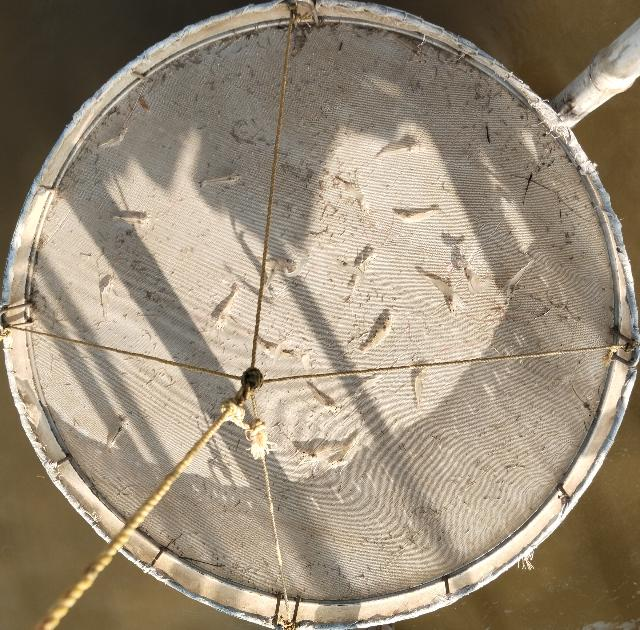shrimp: (418, 275, 462, 317), (506, 257, 537, 305), (97, 112, 132, 148), (335, 179, 369, 216), (362, 315, 393, 355), (327, 435, 361, 470), (350, 255, 377, 298), (215, 286, 240, 331), (307, 384, 342, 413), (257, 340, 298, 362), (297, 446, 350, 463), (461, 263, 490, 294), (104, 419, 129, 453), (354, 375, 383, 402), (283, 251, 312, 278), (415, 366, 432, 412), (198, 173, 243, 188), (335, 259, 366, 280), (101, 279, 115, 322), (393, 211, 443, 223), (375, 147, 427, 157), (109, 216, 150, 227)
